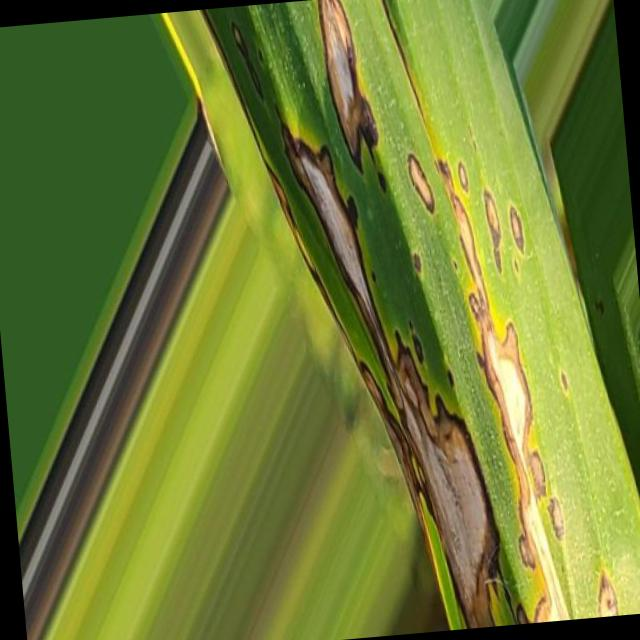Banana_Black_Sigatoka: (240, 0, 565, 302), (350, 304, 618, 636)
